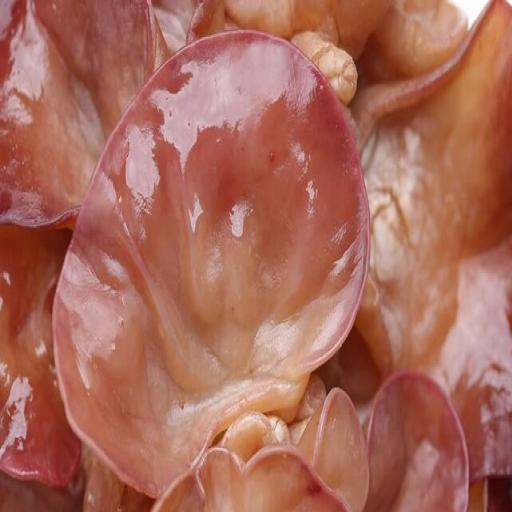mushroom: (52, 32, 376, 492), (343, 0, 512, 482), (2, 0, 162, 226)
